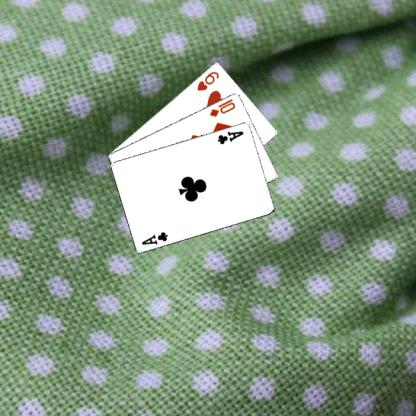10D: (207, 96, 237, 118)
6H: (194, 69, 220, 92)
AC: (139, 228, 169, 246), (215, 128, 245, 145)
